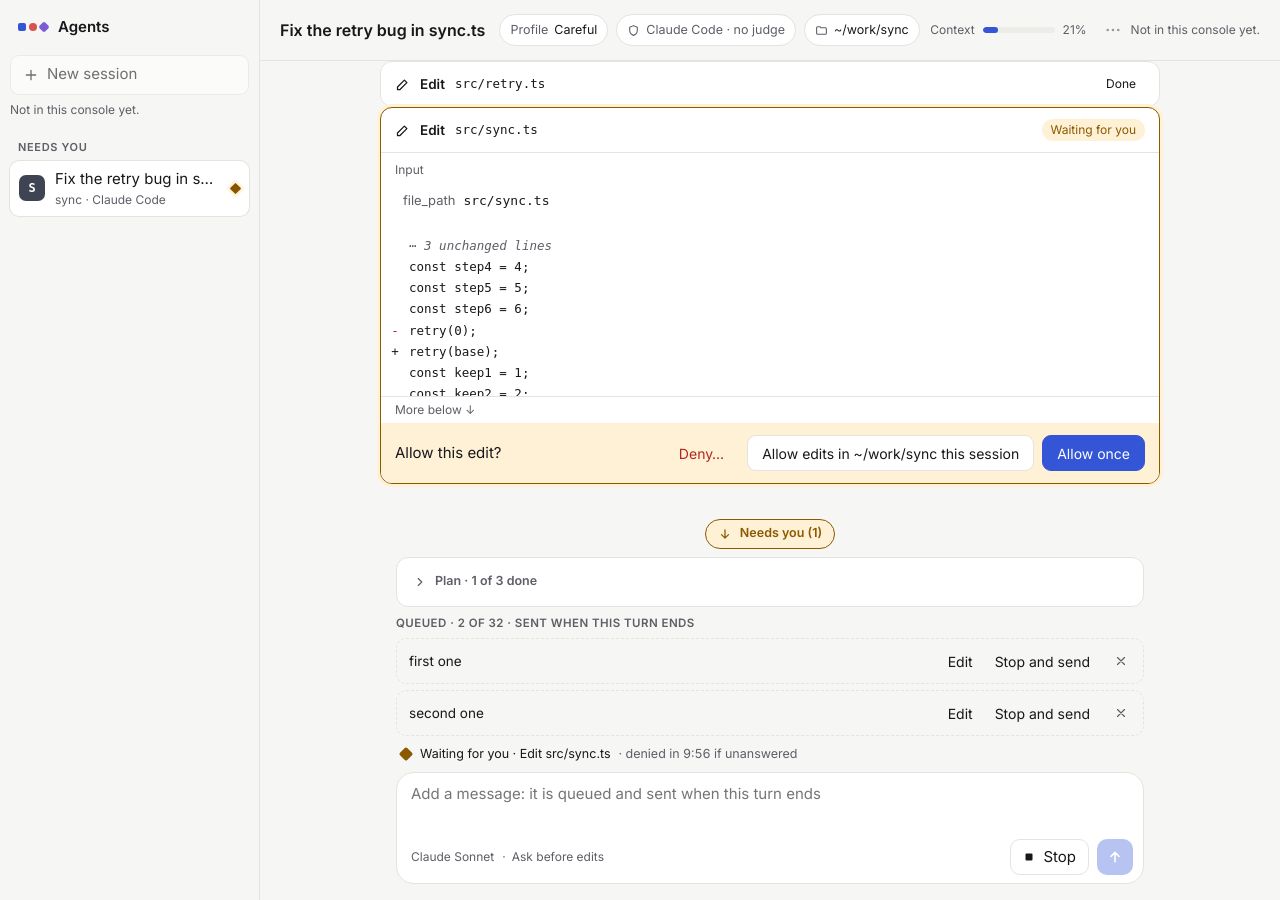
S36-6 › ac4_stop_and_send_unqueues_then_interrupts_with_the_input
(page scrolled)
Expected: the button "Needs you (1)" is shown, [705,519,835,549]
Click the button with aria-label "Stop and send queued message 2". click: point(1042, 713)
box: [986,695,1099,731]
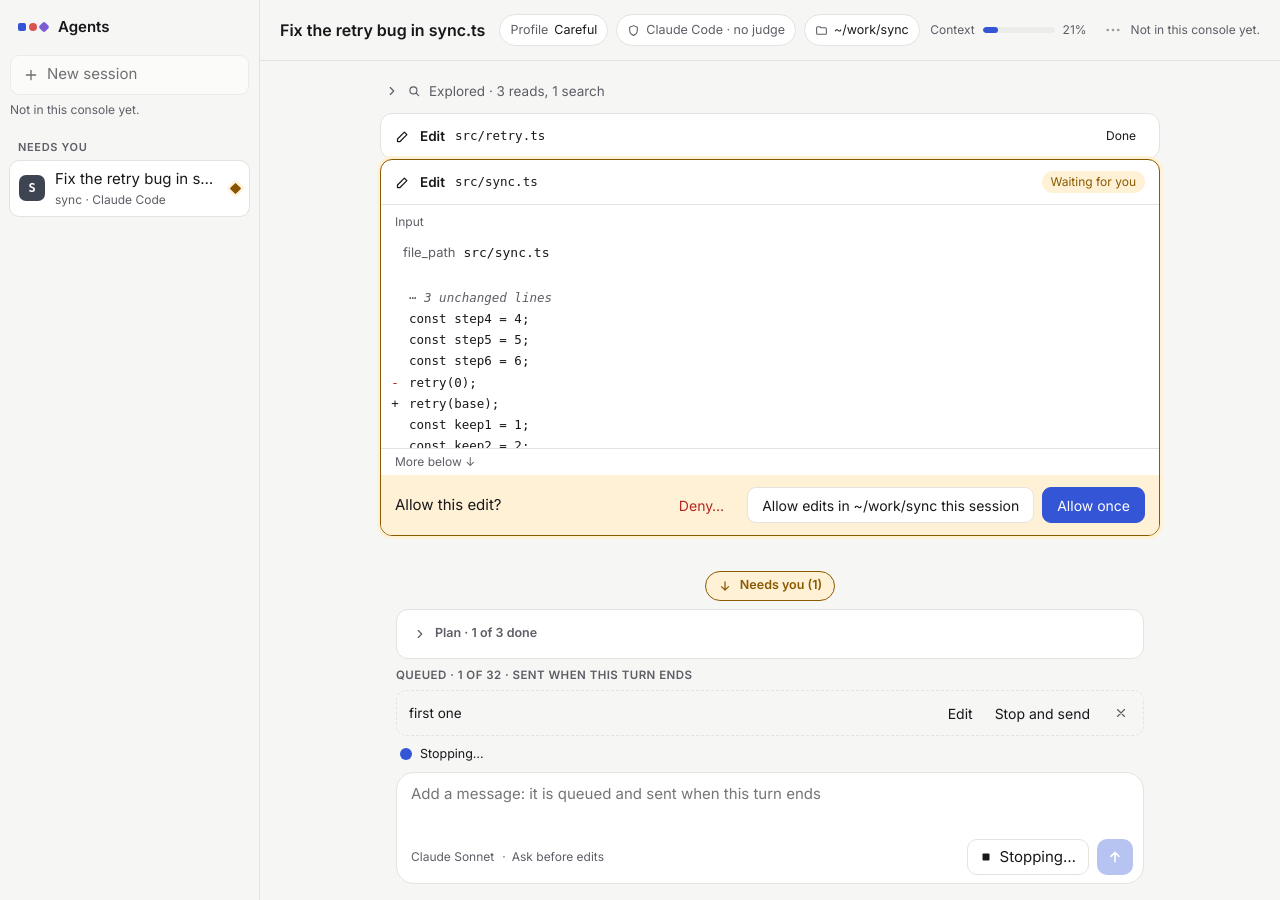
Now the text "Stopping…" is shown, box [420,745,484,763]
